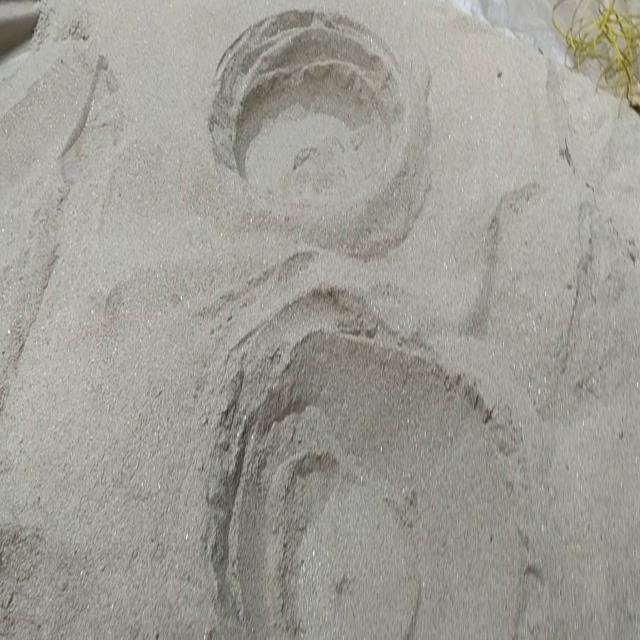C20: (209, 289, 529, 636), (211, 12, 399, 204)
